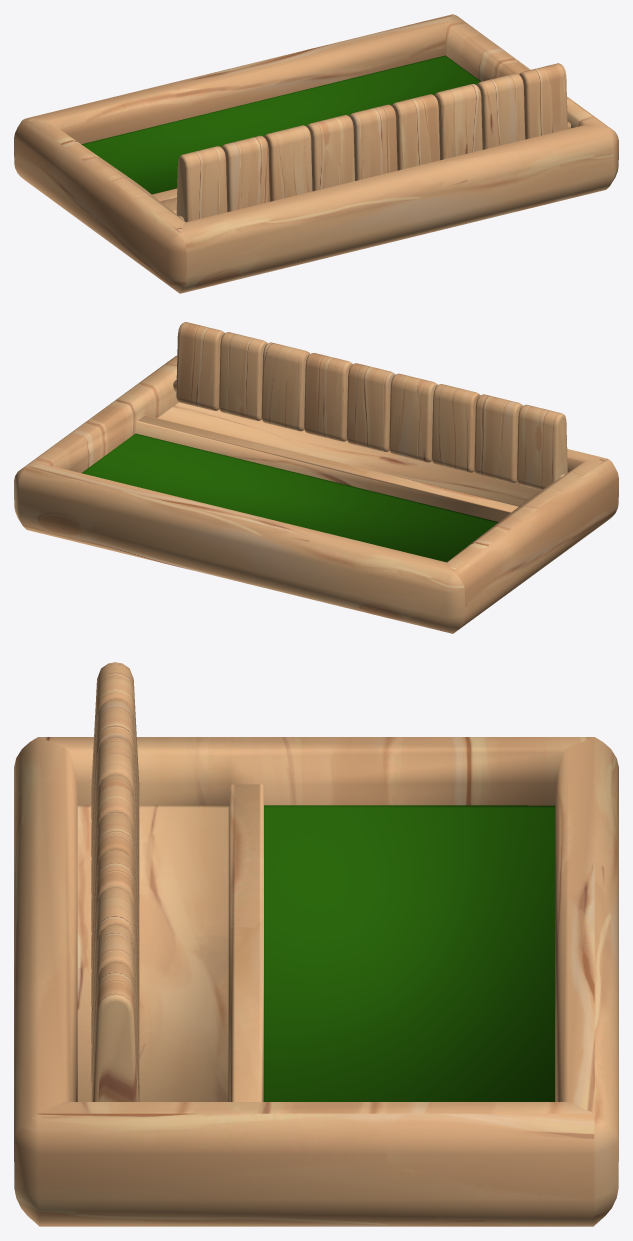
Rendered from Classic.fbx.
The picture shows the model from 3 angles, top to bottom: view 1: azimuth 30°, elevation 25°; view 2: azimuth 150°, elevation 25°; view 3: azimuth 270°, elevation 25°; orthographic projection. The views are drawn at different scales.
Parts seen in each view (by area): view 1: Box, Tile_9, Tile_7, Tile_2, Tile_5, Tile_3, Tile_4, Tile_6, Tile_8, Tile_1; view 2: Box, Tile_9, Tile_1, Tile_5, Tile_8, Tile_3, Tile_7, Tile_6, Tile_4, Tile_2; view 3: Box, Tile_1, Tile_2, Tile_4, Tile_6, Tile_7, Tile_8, Tile_5, Tile_9, Tile_3.
Part boxes in pixels (box(x1,y1,x2,y2)): Box: box(14, 14, 618, 293); Tile_9: box(176, 146, 227, 222); Tile_7: box(264, 125, 312, 201); Tile_2: box(477, 73, 525, 149); Tile_5: box(349, 104, 397, 180); Tile_3: box(434, 84, 482, 160); Tile_4: box(391, 94, 439, 170); Tile_6: box(306, 115, 354, 191); Tile_8: box(221, 135, 269, 211); Tile_1: box(519, 63, 567, 139); Box: box(14, 355, 618, 633); Tile_9: box(516, 404, 567, 490); Tile_1: box(176, 322, 224, 410); Tile_5: box(346, 363, 395, 452); Tile_8: box(474, 394, 522, 483); Tile_3: box(261, 342, 309, 431); Tile_7: box(431, 384, 480, 472); Tile_6: box(389, 373, 437, 462); Tile_4: box(304, 353, 352, 441); Tile_2: box(219, 332, 267, 420); Box: box(14, 737, 618, 1226); Tile_1: box(91, 962, 139, 1101); Tile_2: box(91, 924, 139, 1083); Tile_4: box(91, 849, 139, 1006); Tile_6: box(91, 774, 139, 931); Tile_7: box(91, 737, 139, 894); Tile_8: box(91, 699, 139, 856); Tile_5: box(91, 812, 139, 969); Tile_9: box(91, 662, 139, 819); Tile_3: box(91, 887, 139, 1044).
Size of the model in its own units: 1399 by 401 by 901.
Materials: 4 (1 with a texture image).
